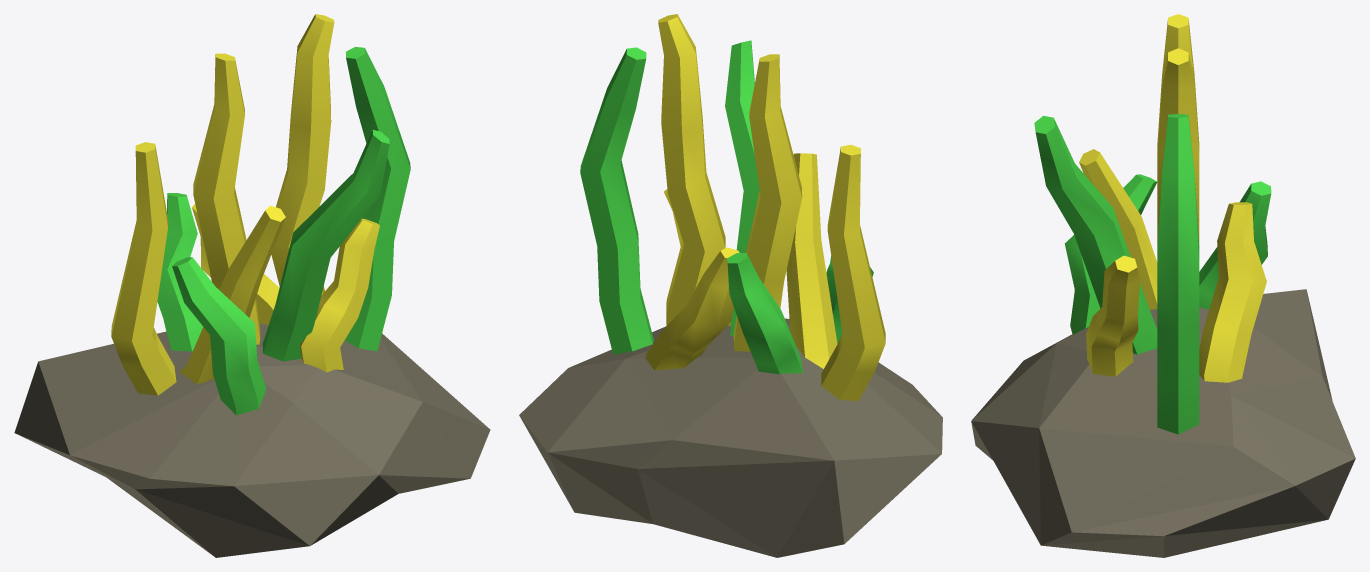
The model's file is CoralYellowWeeds.FBX.
3 renders of one model, left to right at view 1: azimuth 30°, elevation 25°; view 2: azimuth 150°, elevation 25°; view 3: azimuth 270°, elevation 25°, orthographic. The views are drawn at different scales.
Parts seen in each view (by area): view 1: CoralYellowWeeds; view 2: CoralYellowWeeds; view 3: CoralYellowWeeds.
Part boxes in pixels (<box>): CoralYellowWeeds: <box>14,14,490,557</box>; CoralYellowWeeds: <box>519,14,942,557</box>; CoralYellowWeeds: <box>971,14,1355,557</box>.
Size of the model in its own units: 36.06 by 42.87 by 30.21.
